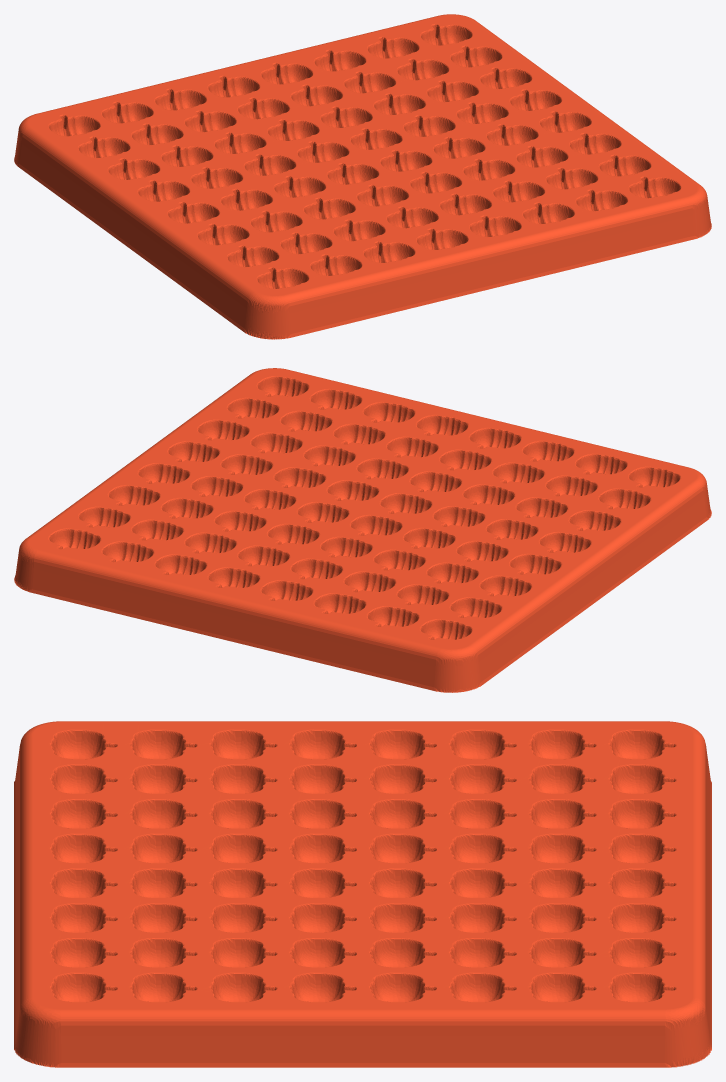
Rendered from mold.glb.
The picture shows the model from 3 angles, top to bottom: view 1: azimuth 30°, elevation 25°; view 2: azimuth 150°, elevation 25°; view 3: azimuth 270°, elevation 25°; orthographic projection. The views are drawn at different scales.
Parts seen in each view (by area): view 1: geometry_0; view 2: geometry_0; view 3: geometry_0.
Boxes of the visible parts, x1,y1,x2,y2 form: geometry_0: (14, 14, 711, 339); geometry_0: (14, 368, 711, 692); geometry_0: (14, 721, 711, 1067).
Size of the model in its own units: 0.1355 by 0.0105 by 0.1319.
